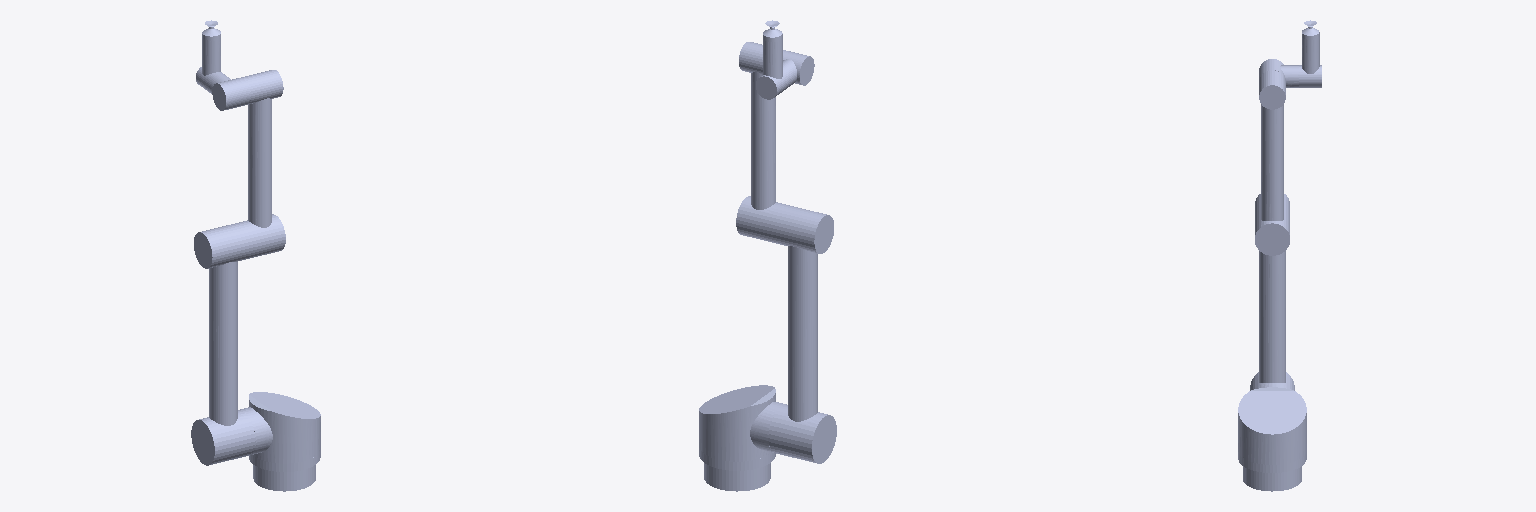
The robot description file, URDF, robot "handler":
<?xml version="1.0" encoding="utf-8" ?>
<!-- This URDF was automatically created by SolidWorks to URDF Exporter! Originally created by [author] ([email redacted]) 
     Commit Version: 1.6.0-4-g7f85cfe  Build Version: 1.6.7995.38578
     For more information, please see http://wiki.ros.org/sw_urdf_exporter -->
<robot name="handler">
    <link name="base_link">
        <inertial>
            <origin xyz="2.988E-34 -0.017081 3.8741E-19" rpy="0 0 0" />
            <mass value="0.92342" />
            <inertia ixx="0.0014784" ixy="-1.0796E-35" ixz="1.5674E-35" iyy="0.0023047" iyz="-1.9374E-20" izz="0.0014784" />
        </inertial>
        <visual>
            <origin xyz="0 0 0" rpy="0 0 0" />
            <geometry>
                <mesh filename="package://handler/meshes/base_link.STL" />
            </geometry>
            <material name="">
                <color rgba="0.79216 0.81961 0.93333 1" />
            </material>
        </visual>
        <collision>
            <origin xyz="0 0 0" rpy="0 0 0" />
            <geometry>
                <mesh filename="package://handler/meshes/base_link.STL" />
            </geometry>
        </collision>
    </link>
    <link name="L1">
        <inertial>
            <origin xyz="-0.010562 0.058034 2.1487E-08" rpy="0 0 0" />
            <mass value="2.1518" />
            <inertia ixx="0.0052232" ixy="0.0006223" ixz="-3.1183E-09" iyy="0.0067656" iyz="5.2126E-09" izz="0.0060009" />
        </inertial>
        <visual>
            <origin xyz="0 0 0" rpy="0 0 0" />
            <geometry>
                <mesh filename="package://handler/meshes/L1.STL" />
            </geometry>
            <material name="">
                <color rgba="0.79216 0.81961 0.93333 1" />
            </material>
        </visual>
        <collision>
            <origin xyz="0 0 0" rpy="0 0 0" />
            <geometry>
                <mesh filename="package://handler/meshes/L1.STL" />
            </geometry>
        </collision>
    </link>
    <joint name="J1" type="revolute">
        <origin xyz="0 0 0.01" rpy="1.5708 0 0" />
        <parent link="base_link" />
        <child link="L1" />
        <axis xyz="0 1 0" />
        <limit lower="-1.57" upper="1.57" effort="5" velocity="1" />
        <dynamics damping="1" friction="1" />
    </joint>
    <link name="L2">
        <inertial>
            <origin xyz="0.059363 8.6014E-08 -0.19267" rpy="0 0 0" />
            <mass value="2.3432" />
            <inertia ixx="0.077054" ixy="4.3641E-10" ixz="0.00086007" iyy="0.077511" iyz="7.6816E-09" izz="0.0023404" />
        </inertial>
        <visual>
            <origin xyz="0 0 0" rpy="0 0 0" />
            <geometry>
                <mesh filename="package://handler/meshes/L2.STL" />
            </geometry>
            <material name="">
                <color rgba="0.79216 0.81961 0.93333 1" />
            </material>
        </visual>
        <collision>
            <origin xyz="0 0 0" rpy="0 0 0" />
            <geometry>
                <mesh filename="package://handler/meshes/L2.STL" />
            </geometry>
        </collision>
    </link>
    <joint name="J2" type="revolute">
        <origin xyz="-0.09 0.07 0" rpy="-1.5708 0 3.1416" />
        <parent link="L1" />
        <child link="L2" />
        <axis xyz="1 0 0" />
        <limit lower="-1.57" upper="1.57" effort="5" velocity="1" />
        <dynamics damping="1" friction="1" />
    </joint>
    <link name="L3">
        <inertial>
            <origin xyz="-0.029308 0.14601 -1.9972E-07" rpy="0 0 0" />
            <mass value="1.2035" />
            <inertia ixx="0.023041" ixy="0.0002755" ixz="5.9887E-09" iyy="0.00076928" iyz="6.6759E-09" izz="0.023199" />
        </inertial>
        <visual>
            <origin xyz="0 0 0" rpy="0 0 0" />
            <geometry>
                <mesh filename="package://handler/meshes/L3.STL" />
            </geometry>
            <material name="">
                <color rgba="0.79216 0.81961 0.93333 1" />
            </material>
        </visual>
        <collision>
            <origin xyz="0 0 0" rpy="0 0 0" />
            <geometry>
                <mesh filename="package://handler/meshes/L3.STL" />
            </geometry>
        </collision>
    </link>
    <joint name="J3" type="revolute">
        <origin xyz="0 0 -0.45" rpy="-1.5708 0 0" />
        <parent link="L2" />
        <child link="L3" />
        <axis xyz="1 0 0" />
        <limit lower="-1.57" upper="1.57" effort="5" velocity="1" />
        <dynamics damping="1" friction="1" />
    </joint>
    <link name="L4">
        <inertial>
            <origin xyz="0.038122 -6.5766E-09 0.0090201" rpy="0 0 0" />
            <mass value="0.23425" />
            <inertia ixx="0.00015933" ixy="3.1181E-11" ixz="-3.9672E-06" iyy="0.00018421" iyz="-1.9002E-11" izz="0.0001233" />
        </inertial>
        <visual>
            <origin xyz="0 0 0" rpy="0 0 0" />
            <geometry>
                <mesh filename="package://handler/meshes/L4.STL" />
            </geometry>
            <material name="">
                <color rgba="0.79216 0.81961 0.93333 1" />
            </material>
        </visual>
        <collision>
            <origin xyz="0 0 0" rpy="0 0 0" />
            <geometry>
                <mesh filename="package://handler/meshes/L4.STL" />
            </geometry>
        </collision>
    </link>
    <joint name="J4" type="revolute">
        <origin xyz="0 0.35 0" rpy="0 0 0" />
        <parent link="L3" />
        <child link="L4" />
        <axis xyz="1 0 0" />
        <limit lower="-1.57" upper="1.57" effort="5" velocity="1" />
        <dynamics damping="1" friction="1" />
    </joint>
    <link name="L5">
        <inertial>
            <origin xyz="0.027463 -8.8585E-09 -0.033154" rpy="0 0 0" />
            <mass value="0.20423" />
            <inertia ixx="6.697E-05" ixy="-1.8659E-10" ixz="1.0354E-05" iyy="0.0002833" iyz="2.5719E-10" izz="0.00026912" />
        </inertial>
        <visual>
            <origin xyz="0 0 0" rpy="0 0 0" />
            <geometry>
                <mesh filename="package://handler/meshes/L5.STL" />
            </geometry>
            <material name="">
                <color rgba="0.79216 0.81961 0.93333 1" />
            </material>
        </visual>
        <collision>
            <origin xyz="0 0 0" rpy="0 0 0" />
            <geometry>
                <mesh filename="package://handler/meshes/L5.STL" />
            </geometry>
        </collision>
    </link>
    <joint name="J5" type="revolute">
        <origin xyz="0.04 0 0.05" rpy="3.1416 0 1.5708" />
        <parent link="L4" />
        <child link="L5" />
        <axis xyz="0 0 1" />
        <limit lower="-1.57" upper="1.57" effort="5" velocity="1" />
        <dynamics damping="1" friction="1" />
    </joint>
    <link name="L6">
        <inertial>
            <origin xyz="-1.3878E-17 0.01201 8.3267E-17" rpy="0 0 0" />
            <mass value="0.02287" />
            <inertia ixx="3.033E-06" ixy="2.7708E-22" ixz="6.3545E-37" iyy="3.6242E-06" iyz="7.5673E-22" izz="3.033E-06" />
        </inertial>
        <visual>
            <origin xyz="0 0 0" rpy="0 0 0" />
            <geometry>
                <mesh filename="package://handler/meshes/L6.STL" />
            </geometry>
            <material name="">
                <color rgba="0.79216 0.81961 0.93333 1" />
            </material>
        </visual>
        <collision>
            <origin xyz="0 0 0" rpy="0 0 0" />
            <geometry>
                <mesh filename="package://handler/meshes/L6.STL" />
            </geometry>
        </collision>
    </link>
    <joint name="J6" type="revolute">
        <origin xyz="0.095 0 -0.035" rpy="1.5708 1.5708 0" />
        <parent link="L5" />
        <child link="L6" />
        <axis xyz="0 1 0" />
        <limit lower="-1.57" upper="1.57" effort="5" velocity="1" />
        <dynamics damping="1" friction="1" />
    </joint>
    <transmission name="trans_J1">
        <type>transmission_interface/SimpleTransmission</type>
        <joint name="J1">
            <hardwareInterface>hardware_interface/PositionJointInterface</hardwareInterface>
        </joint>
        <actuator name="J1_motor">
            <hardwareInterface>hardware_interface/PositionJointInterface</hardwareInterface>
            <mechanicalReduction>1</mechanicalReduction>
        </actuator>
    </transmission>
    <transmission name="trans_J2">
        <type>transmission_interface/SimpleTransmission</type>
        <joint name="J2">
            <hardwareInterface>hardware_interface/PositionJointInterface</hardwareInterface>
        </joint>
        <actuator name="J2_motor">
            <hardwareInterface>hardware_interface/PositionJointInterface</hardwareInterface>
            <mechanicalReduction>1</mechanicalReduction>
        </actuator>
    </transmission>
    <transmission name="trans_J3">
        <type>transmission_interface/SimpleTransmission</type>
        <joint name="J3">
            <hardwareInterface>hardware_interface/PositionJointInterface</hardwareInterface>
        </joint>
        <actuator name="J3_motor">
            <hardwareInterface>hardware_interface/PositionJointInterface</hardwareInterface>
            <mechanicalReduction>1</mechanicalReduction>
        </actuator>
    </transmission>
    <transmission name="trans_J4">
        <type>transmission_interface/SimpleTransmission</type>
        <joint name="J4">
            <hardwareInterface>hardware_interface/PositionJointInterface</hardwareInterface>
        </joint>
        <actuator name="J4_motor">
            <hardwareInterface>hardware_interface/PositionJointInterface</hardwareInterface>
            <mechanicalReduction>1</mechanicalReduction>
        </actuator>
    </transmission>
    <transmission name="trans_J5">
        <type>transmission_interface/SimpleTransmission</type>
        <joint name="J5">
            <hardwareInterface>hardware_interface/PositionJointInterface</hardwareInterface>
        </joint>
        <actuator name="J5_motor">
            <hardwareInterface>hardware_interface/PositionJointInterface</hardwareInterface>
            <mechanicalReduction>1</mechanicalReduction>
        </actuator>
    </transmission>
    <transmission name="trans_J6">
        <type>transmission_interface/SimpleTransmission</type>
        <joint name="J6">
            <hardwareInterface>hardware_interface/PositionJointInterface</hardwareInterface>
        </joint>
        <actuator name="J6_motor">
            <hardwareInterface>hardware_interface/PositionJointInterface</hardwareInterface>
            <mechanicalReduction>1</mechanicalReduction>
        </actuator>
    </transmission>
    <gazebo>
        <plugin name="control" filename = "libgazebo_ros_control">
        </plugin>
    </gazebo>
    <gazebo>
      <plugin name = "joint_state_publisher" filename = "libgazebo_ros_joint_state_publisher.so">
      <jointName>J1, J2, J3, J4, J5 ,J6 </jointName>
      </plugin>
    </gazebo>
</robot>

--- Facts derived from the render (not from the file) ---
3 views of the same robot in one strip: view 1: azimuth 30°, elevation 25°; view 2: azimuth 150°, elevation 25°; view 3: azimuth 270°, elevation 25° (orthographic).
Model handler with 7 links and 6 joints (6 revolute), rooted at base_link, posed all joints at 0.
Links seen in each view (by area): view 1: L2, L3, L1, base_link, L4, L5; view 2: L2, L1, L3, base_link, L5, L4; view 3: L1, L3, L2, base_link, L5, L4.
Boxes of the visible links, x1,y1,x2,y2 form: L2: (191,222,255,465); L3: (242,70,285,258); L1: (240,392,320,463); base_link: (249,450,320,491); L4: (207,73,250,110); L5: (196,38,221,92); L2: (768,204,836,463); L1: (699,385,783,461); L3: (736,42,783,242); base_link: (699,448,775,491); L5: (756,39,789,99); L4: (783,50,814,86); L1: (1238,387,1306,464); L3: (1255,70,1289,255); L2: (1250,194,1294,390); base_link: (1238,452,1306,491); L5: (1299,36,1321,87); L4: (1259,59,1298,87).
Bounding box of the posed robot: 0.2765 × 0.1865 × 1.06 m (x, y, z).
Meshes: 7 distinct files referenced, 7 mesh visuals loaded (7 binary STL).